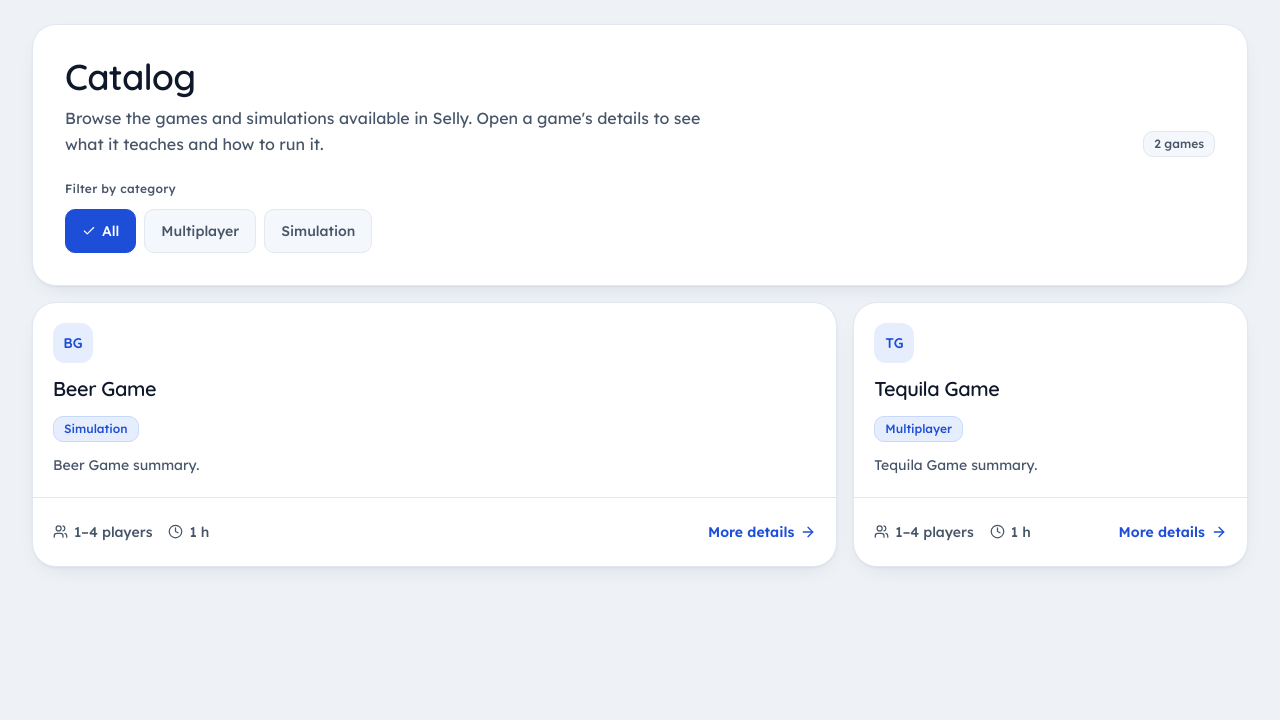
Test: Catalog page › filters by category without repainting the others away permanently
Expected: the heading "Beer Game" is shown, [53, 376, 156, 401]
Click the button "Multiplayer". click: coordinates (200, 231)
box: [144, 209, 256, 253]
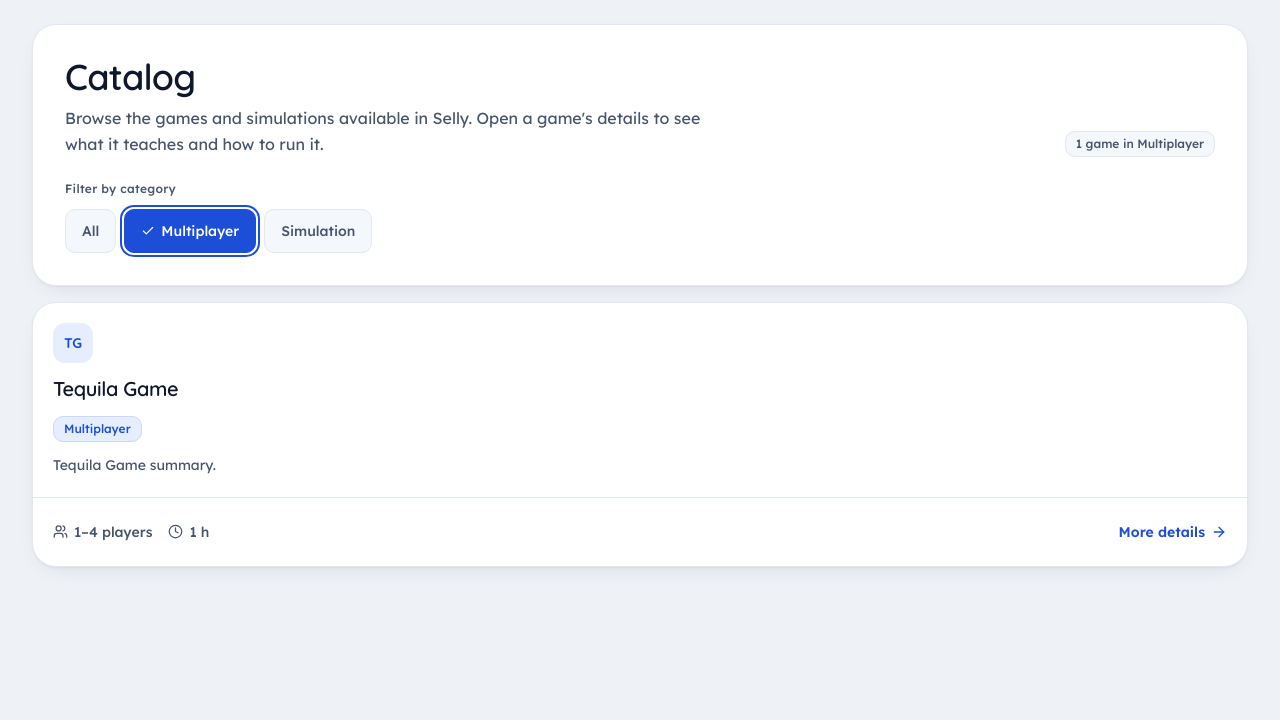
Expected: the heading "Tequila Game" is shown, [53, 376, 178, 401]
Result: the link "Beer Game" is gone
Result: the text "1 game in Multiplayer" is shown at [1065, 131, 1215, 157]
Click the button "All". click: coordinates (91, 231)
box: [65, 209, 116, 253]
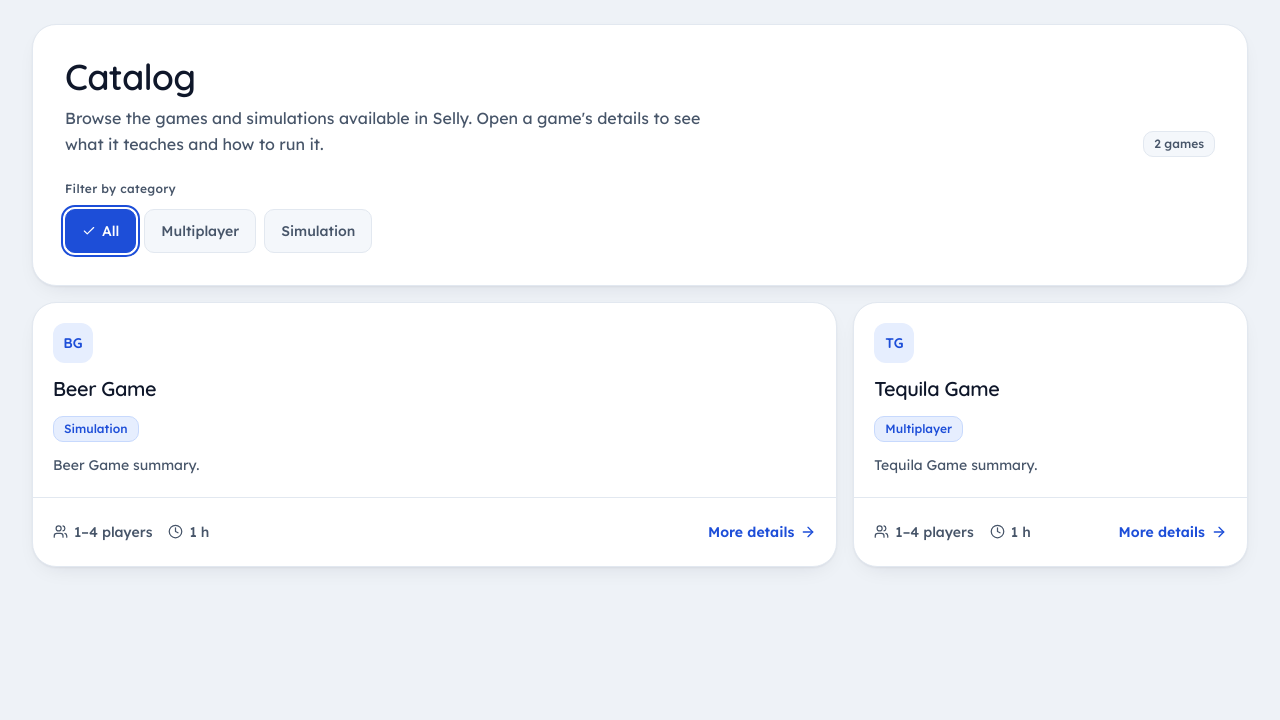
Result: the heading "Beer Game" is shown at [53, 376, 156, 401]
